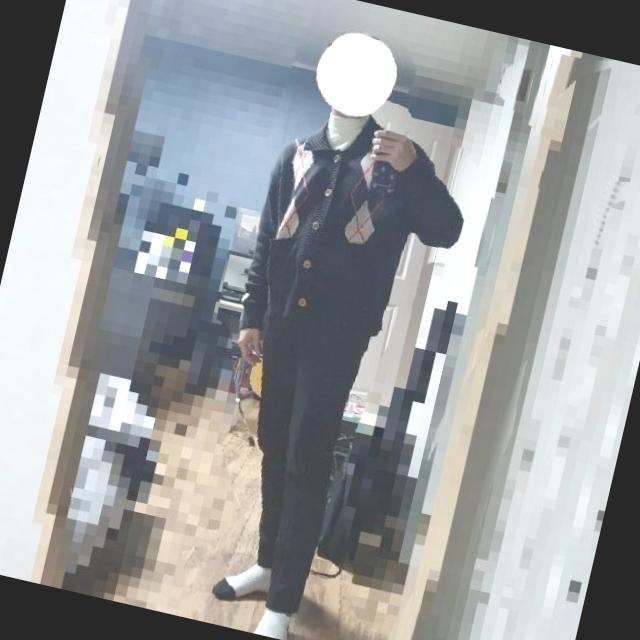cardigan: (232, 97, 482, 375)
cottonpants: (202, 316, 370, 619)
